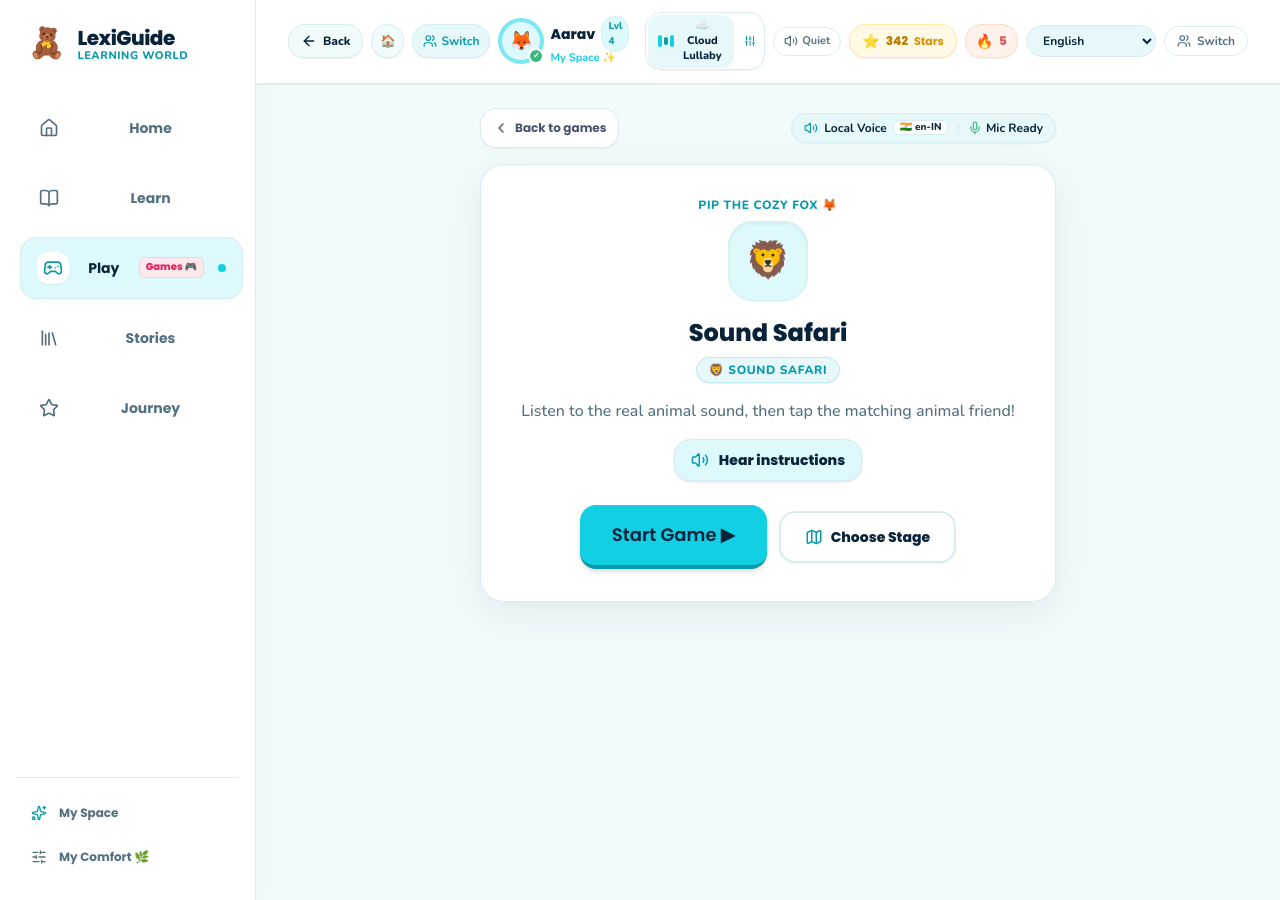
Test: Sound Safari Voice & Audio Playback Suite › 2. Hear Sound button exists when game round starts
The image size is (1280, 900).
Click the button "Start Game ▶".
click(673, 536)  # box [580,504,767,568]
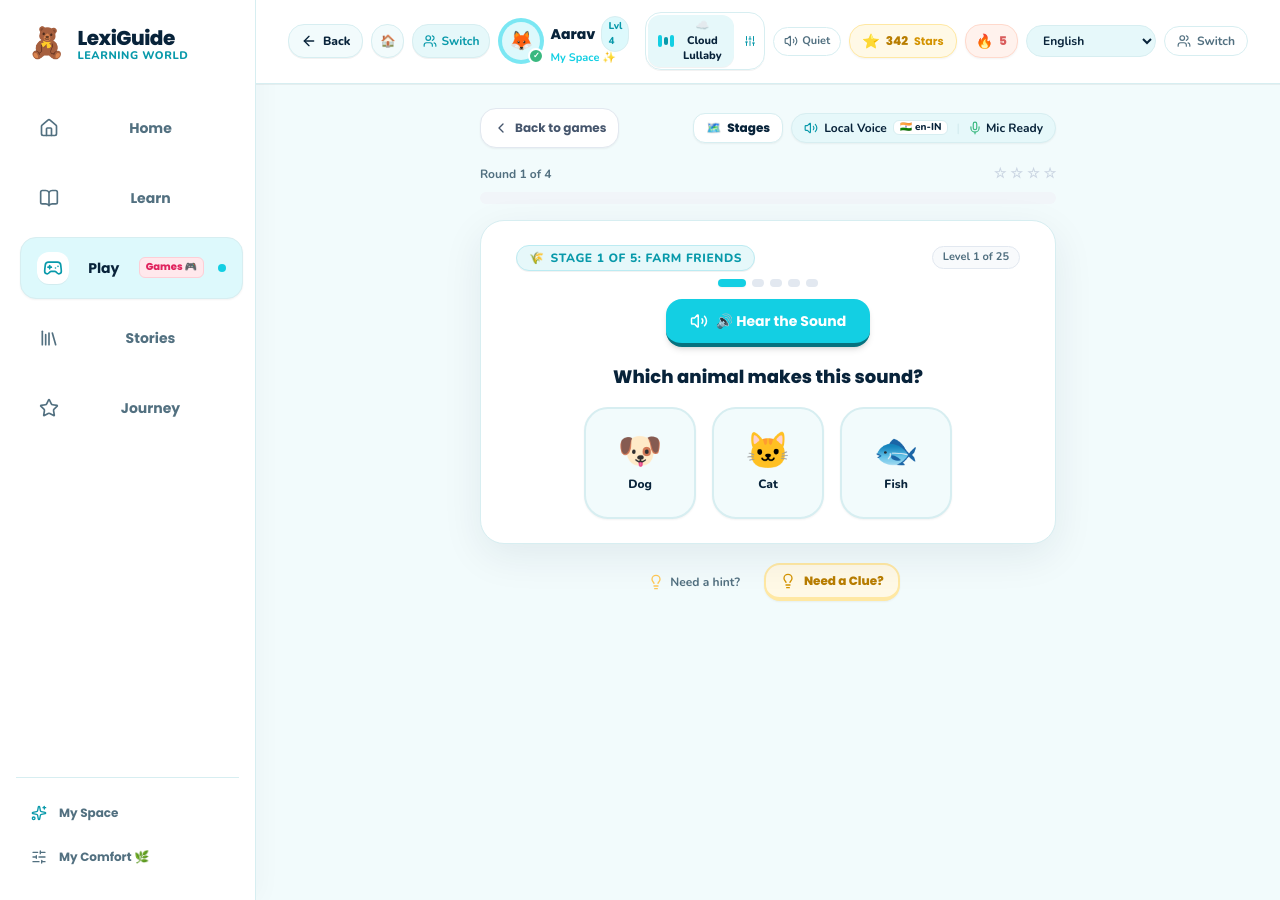
Expected: the button with test id "hear-sound-btn" is shown, [666,298,870,346]
Expected: the text "🔊 Hear the Sound" is shown, [716,310,846,330]
